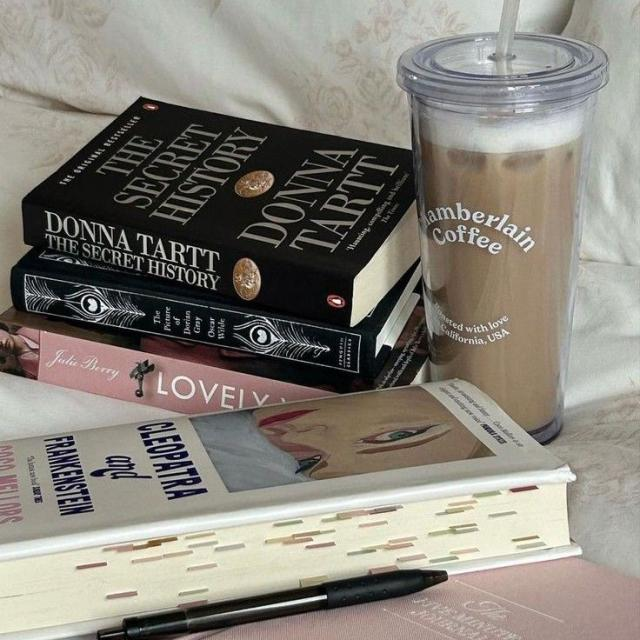book: (21, 202, 355, 327), (13, 268, 371, 376), (1, 323, 337, 414)
